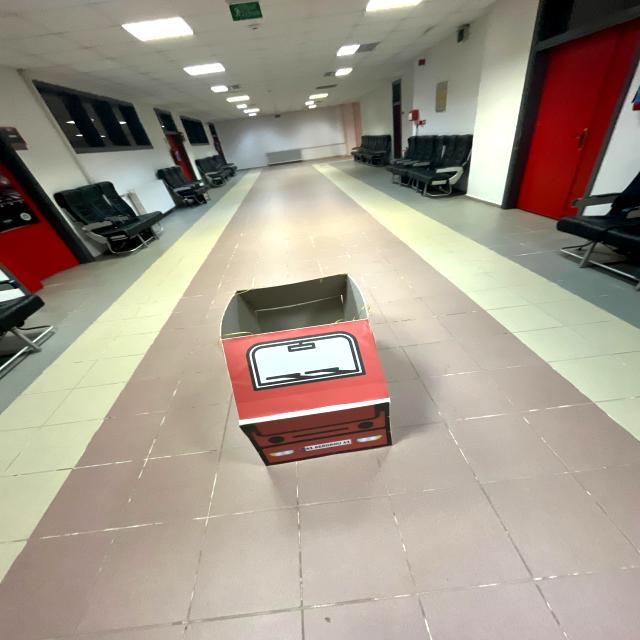red_car: (201, 267, 414, 477)
